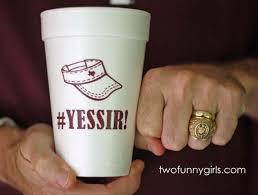Plastic cup: (38, 3, 151, 175)
